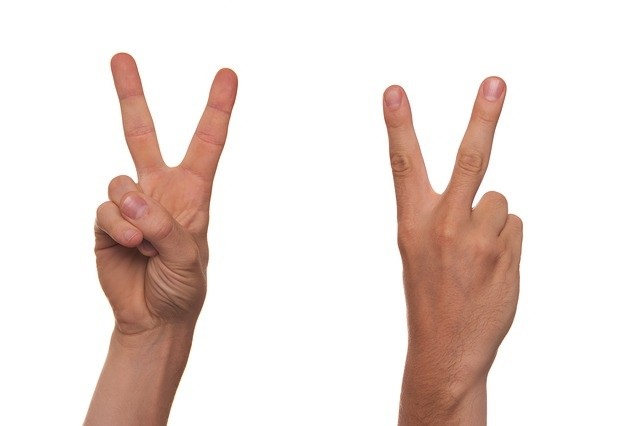v_s: (369, 65, 539, 391), (85, 42, 248, 344)
